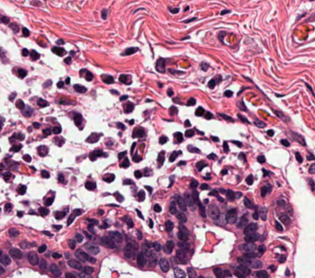nucleus: (184, 193, 196, 210), (89, 149, 106, 160), (177, 224, 188, 240), (292, 132, 305, 145), (101, 236, 115, 248), (208, 204, 219, 219), (225, 209, 236, 223), (176, 195, 186, 210), (244, 223, 257, 234), (109, 231, 122, 242), (86, 132, 100, 142), (191, 190, 200, 205), (122, 215, 133, 227), (245, 232, 258, 242), (156, 58, 165, 72), (119, 74, 131, 84), (274, 110, 286, 120), (237, 215, 247, 227), (219, 113, 233, 121), (133, 127, 144, 137), (37, 145, 47, 156), (279, 214, 290, 224), (73, 114, 82, 126), (237, 114, 249, 123), (157, 151, 164, 166), (52, 47, 65, 55), (73, 84, 86, 92), (187, 145, 200, 153), (29, 50, 39, 60), (113, 191, 123, 201), (176, 212, 186, 222), (261, 185, 270, 196), (244, 197, 253, 208), (178, 241, 189, 250), (123, 47, 137, 54), (102, 174, 114, 182), (258, 207, 266, 219), (124, 102, 133, 112), (169, 151, 178, 161), (196, 161, 206, 170), (225, 190, 234, 200), (102, 75, 113, 83), (37, 99, 48, 107), (254, 119, 265, 127), (165, 220, 173, 231), (169, 201, 176, 213), (195, 107, 204, 116), (52, 125, 61, 134), (120, 158, 129, 167), (44, 196, 53, 205), (174, 132, 182, 142), (54, 137, 64, 145), (189, 179, 197, 189), (85, 181, 95, 189), (54, 211, 64, 219), (199, 204, 205, 217), (306, 83, 313, 94), (137, 190, 144, 201), (67, 214, 74, 225), (207, 79, 215, 88), (186, 97, 195, 105), (238, 101, 246, 110), (169, 106, 177, 115), (185, 129, 194, 137), (39, 207, 48, 215), (83, 230, 91, 239), (295, 152, 302, 162), (72, 209, 82, 216), (252, 208, 258, 219), (200, 62, 208, 70), (159, 136, 167, 144), (118, 151, 126, 159), (257, 155, 265, 163), (85, 71, 92, 80), (116, 122, 125, 129), (280, 139, 289, 146), (246, 175, 253, 184), (136, 209, 143, 218), (275, 221, 282, 230), (75, 233, 82, 242), (68, 239, 75, 248), (183, 17, 195, 22), (87, 219, 97, 225), (43, 80, 51, 87), (204, 111, 212, 118), (43, 128, 51, 135), (238, 153, 245, 161), (41, 170, 49, 177), (134, 170, 141, 178), (209, 189, 217, 196), (277, 199, 285, 206), (153, 204, 160, 212), (169, 7, 178, 13), (101, 9, 107, 18), (207, 153, 216, 159), (223, 142, 228, 152), (130, 143, 135, 153), (309, 163, 314, 173), (123, 179, 133, 184), (214, 75, 221, 82), (145, 186, 152, 193), (167, 88, 173, 96), (224, 90, 232, 96), (133, 155, 141, 161), (262, 169, 270, 175), (58, 174, 64, 182), (200, 183, 208, 189), (88, 224, 94, 232), (232, 141, 241, 146), (169, 175, 173, 186), (79, 69, 86, 75), (184, 119, 190, 126), (267, 129, 273, 136), (43, 231, 51, 236), (220, 10, 229, 14), (64, 57, 70, 63), (57, 81, 63, 87), (33, 122, 39, 128), (217, 195, 223, 201), (52, 225, 61, 229), (56, 39, 63, 44), (120, 95, 127, 100), (211, 136, 218, 141), (100, 222, 107, 227), (148, 219, 152, 227), (307, 154, 313, 159), (178, 161, 185, 165), (137, 231, 141, 238), (221, 169, 226, 174), (65, 77, 69, 83), (110, 90, 118, 93), (128, 120, 133, 124), (184, 6, 188, 10), (98, 210, 102, 214)
